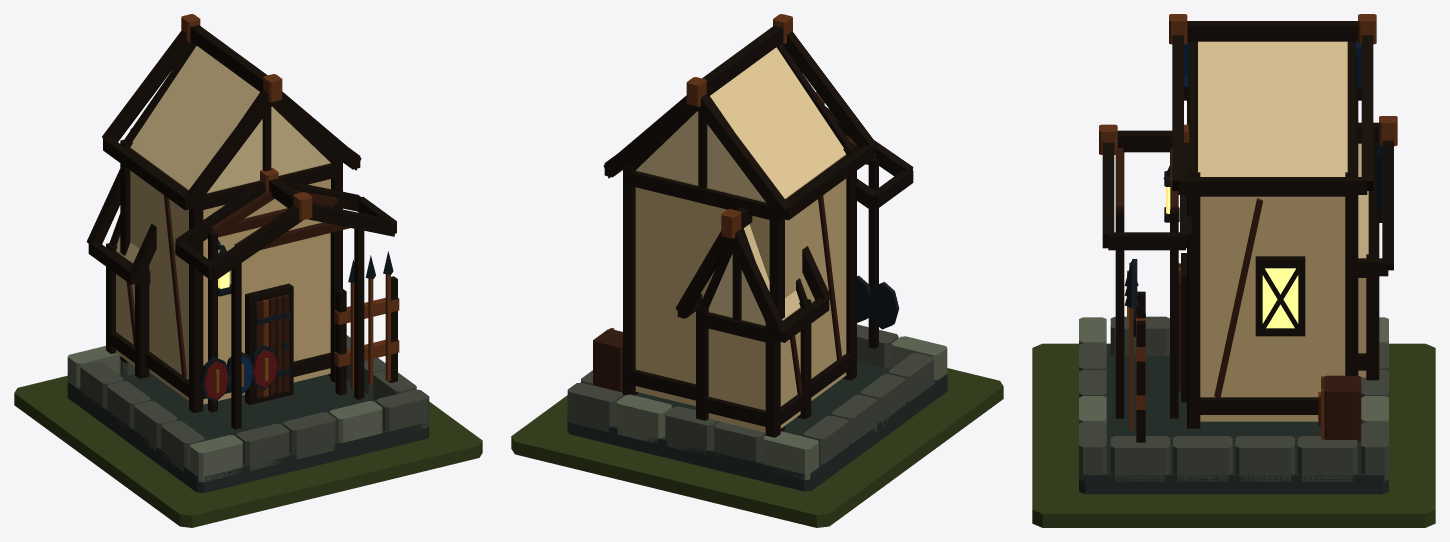
The model's file is armory_t5.glb.
The picture shows the model from 3 angles, left to right: view 1: azimuth 30°, elevation 25°; view 2: azimuth 150°, elevation 25°; view 3: azimuth 270°, elevation 25°; orthographic projection. The views are drawn at different scales.
Parts seen in each view (by area): view 1: MMR | armory | T05 Architecture.001, MMR | armory | Tier 05 Ground.001; view 2: MMR | armory | T05 Architecture.001, MMR | armory | Tier 05 Ground.001; view 3: MMR | armory | T05 Architecture.001, MMR | armory | Tier 05 Ground.001.
Part boxes in pixels (x1,y1,x2,y2): MMR | armory | T05 Architecture.001: [67, 14, 429, 493]; MMR | armory | Tier 05 Ground.001: [14, 375, 482, 527]; MMR | armory | T05 Architecture.001: [567, 14, 947, 491]; MMR | armory | Tier 05 Ground.001: [511, 368, 1003, 527]; MMR | armory | T05 Architecture.001: [1079, 14, 1397, 494]; MMR | armory | Tier 05 Ground.001: [1032, 343, 1435, 527].
Bounding box in the file's own units: 1.3 × 1.51 × 1.3.
2 materials, 1 textured.
